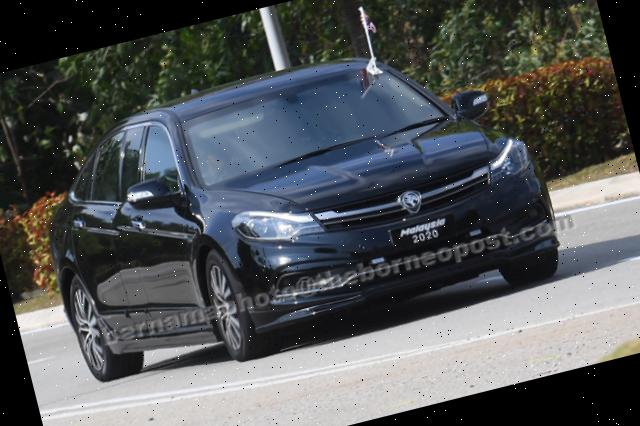License_Plate: (388, 213, 460, 255)
car: (20, 14, 573, 403)
